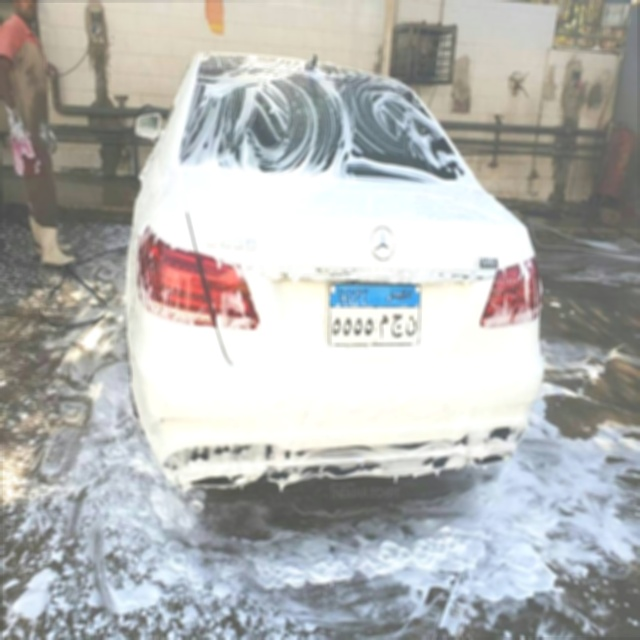License Plate: (327, 278, 422, 350)
